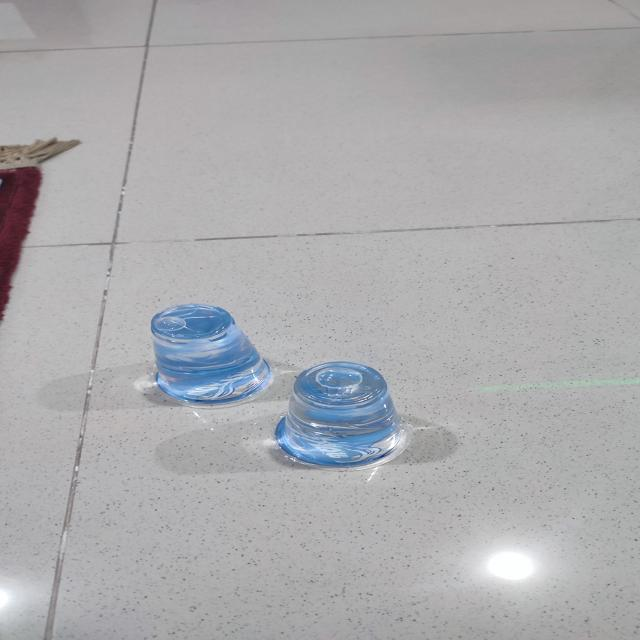air gelas: (264, 357, 414, 467), (135, 298, 283, 403)
